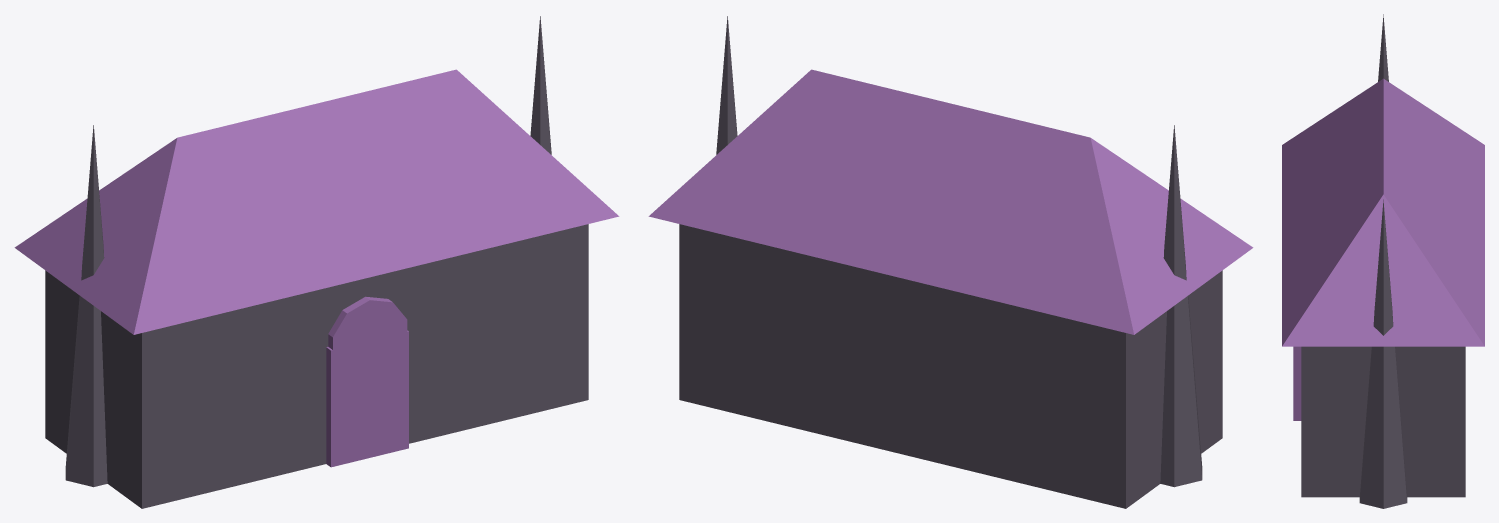
3 renders of one model, left to right at view 1: azimuth 30°, elevation 25°; view 2: azimuth 150°, elevation 25°; view 3: azimuth 270°, elevation 25°, orthographic. The views are drawn at different scales.
Visible parts, largest first — view 1: body; view 2: body; view 3: body.
Boxes of the visible parts, x1=… form: body: x1=14, y1=16, x2=619, y2=508; body: x1=648, y1=16, x2=1253, y2=508; body: x1=1282, y1=14, x2=1484, y2=508.
Bounding box in the file's own units: 9 × 6 × 3.7.
